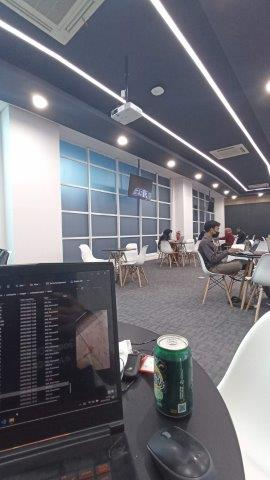kaleng: (154, 334, 193, 417)
